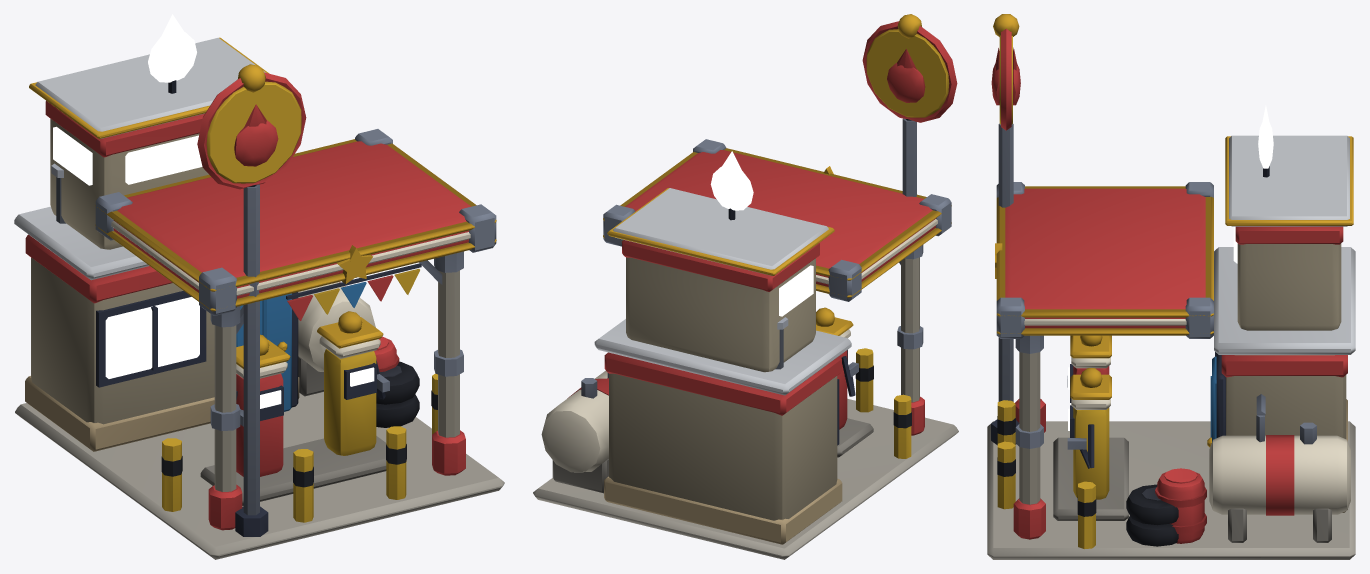
The model's file is o_special_staub.glb.
3 views of the same model, side by side, from view 1: azimuth 30°, elevation 25°; view 2: azimuth 150°, elevation 25°; view 3: azimuth 270°, elevation 25° (orthographic). The views are drawn at different scales.
Visible parts, largest first — view 1: body, lv3_upper, lv4_armor, lv5_gold, spin_sign, win_glow, lv3_win_glow, lv2_annex, sway_banner; view 2: body, lv3_upper, spin_sign, lv2_annex, lv4_armor, lv5_gold, lv3_win_glow; view 3: body, lv3_upper, lv2_annex, lv4_armor, lv5_gold, spin_sign, lv3_win_glow.
Boxes of the visible parts, x1,y1,x2,y2 form: body: (14,141,504,559); lv3_upper: (35,37,265,249); lv4_armor: (95,129,496,522); lv5_gold: (29,37,496,368); spin_sign: (197,72,306,189); win_glow: (105,297,374,408); lv3_win_glow: (53,14,202,185); lv2_annex: (298,282,399,396); sway_banner: (286,263,421,320); body: (533,118,958,559); lv3_upper: (613,188,828,372); spin_sign: (862,21,957,122); lv2_annex: (541,370,608,493); lv4_armor: (603,139,951,458); lv5_gold: (603,14,951,335); lv3_win_glow: (710,151,813,316); body: (987,123,1355,559); lv3_upper: (1229,135,1349,330); lv2_annex: (1155,394,1350,543); lv4_armor: (996,182,1213,549); lv5_gold: (993,14,1353,399); spin_sign: (991,29,1020,130); lv3_win_glow: (1233,105,1273,263).
Bounding box in the file's own units: 3.36 × 5.12 × 3.9.
